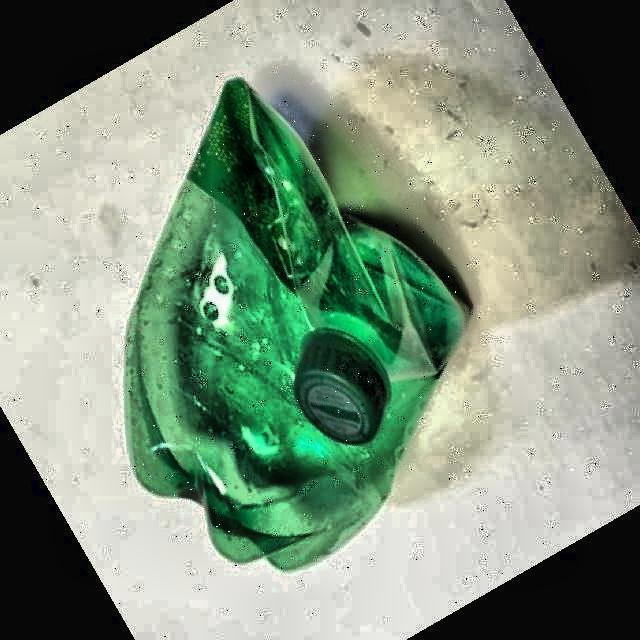plastic: (126, 79, 465, 569)
